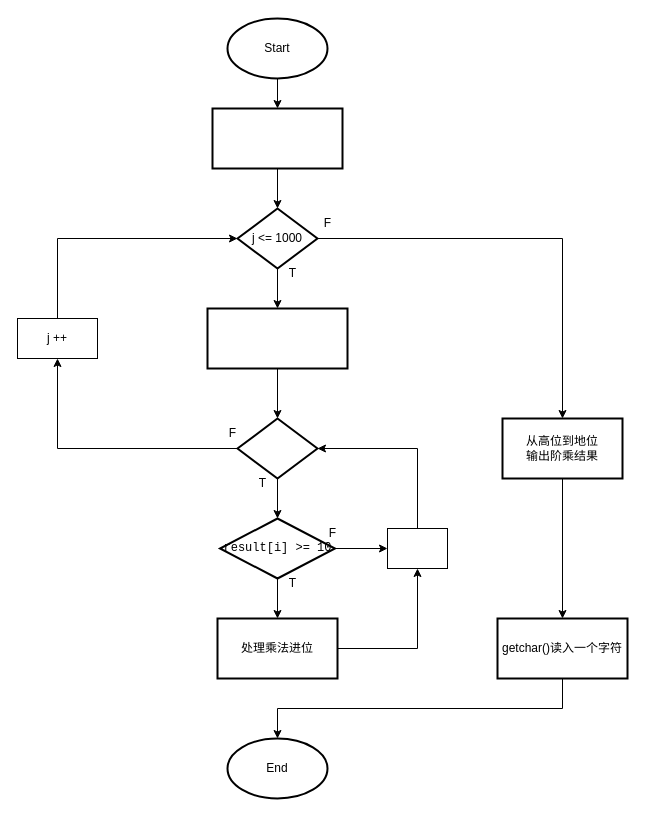
Some shapes in this 646 by 816 pixel diagram are drawn without their labels. Each missing label, with the centre of its shape:
i ++: (417,548)
i < 3000: (277,448)
result数组的每一位 都乘上当前的数字 j， 计算当前阶乘的结果: (277,338)
初始化存储结果的数组: (277,138)
